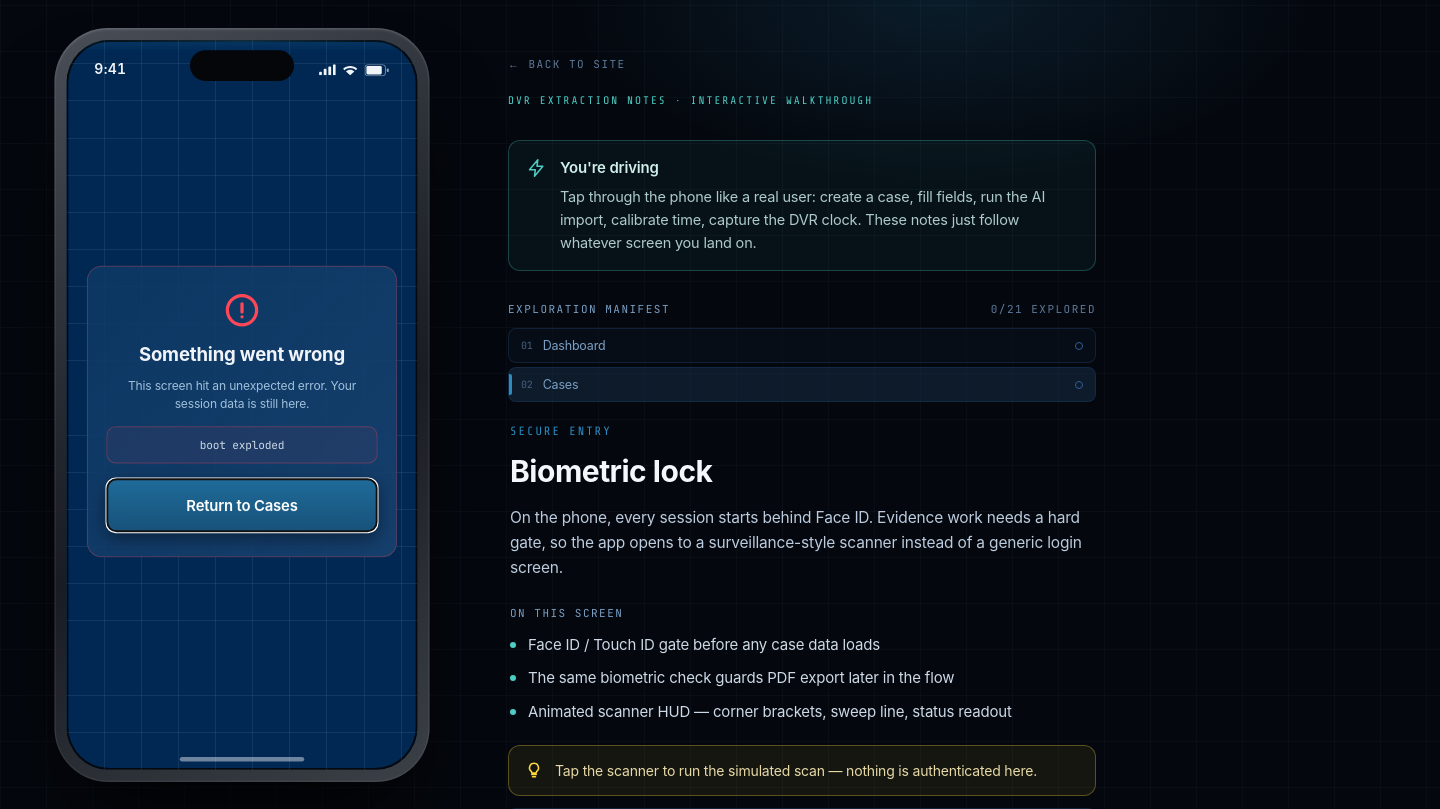
Test: DemoExperience — a throw inside the boot gate is recoverable › "Return to Cases" lifts the gate as well as clearing the error
Expected: the message shows "Something went wrong", [139,344,345,366]
Step 1. Click the button "Return to Cases" → {"x": 242, "y": 505}, box [106,478,378,532]
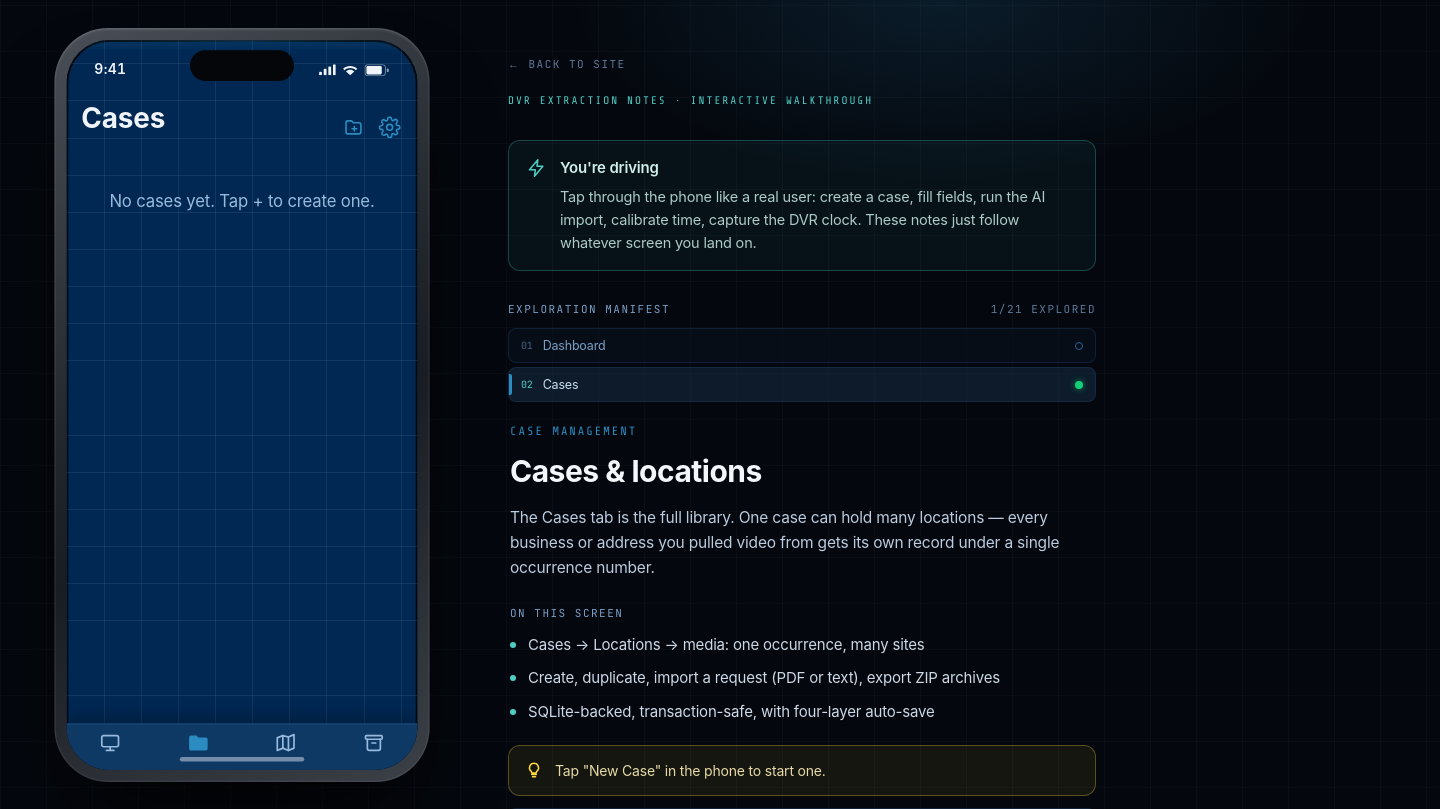
Now the message is gone
Now the text "No cases yet. Tap + to create one." is shown, box [109,189,374,214]
